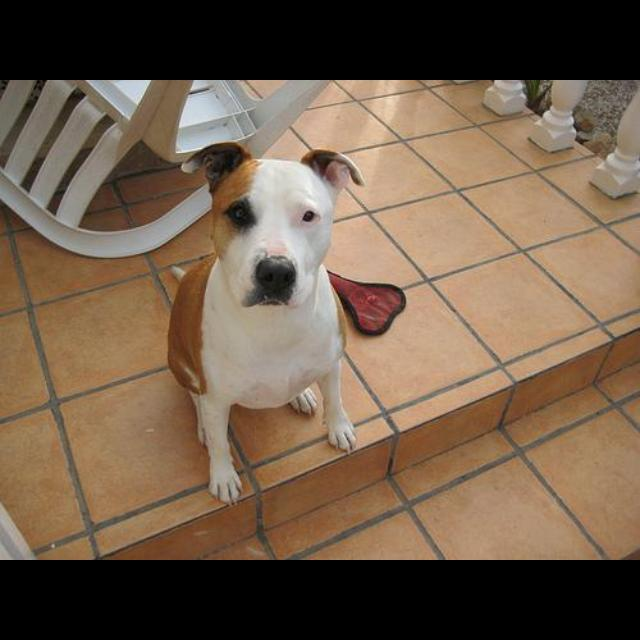amstaff: (167, 142, 366, 506)
